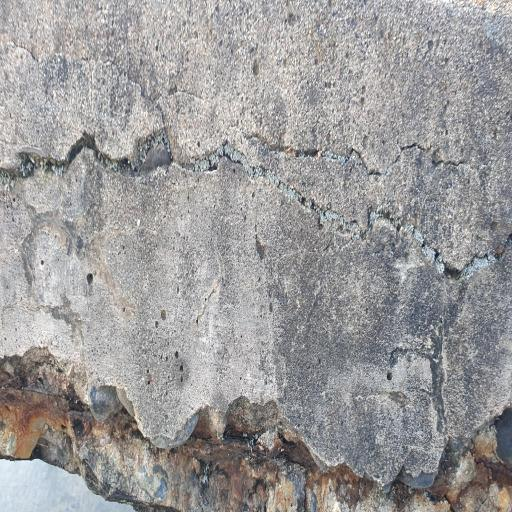exposed_rebar: (474, 455, 512, 489), (284, 439, 318, 469), (215, 432, 258, 444), (69, 400, 90, 412), (193, 432, 213, 441), (472, 469, 481, 482), (484, 469, 488, 482)
spalling: (0, 350, 512, 512)
